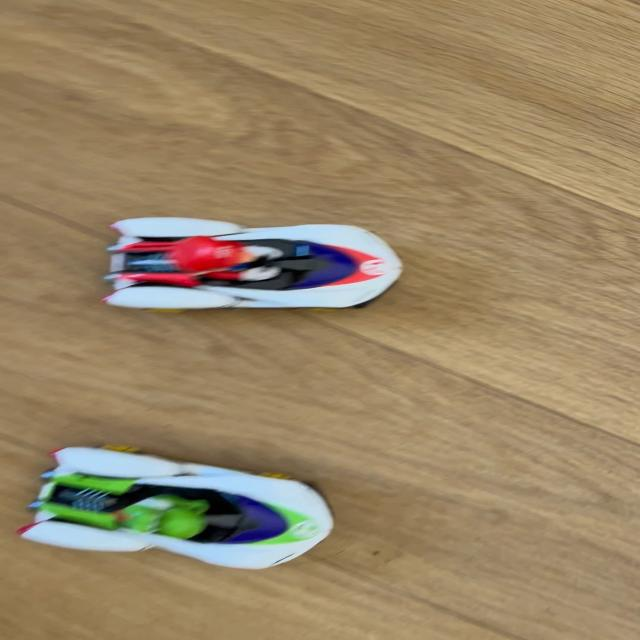mario: (84, 213, 424, 322)
yoshi: (5, 435, 356, 580)
